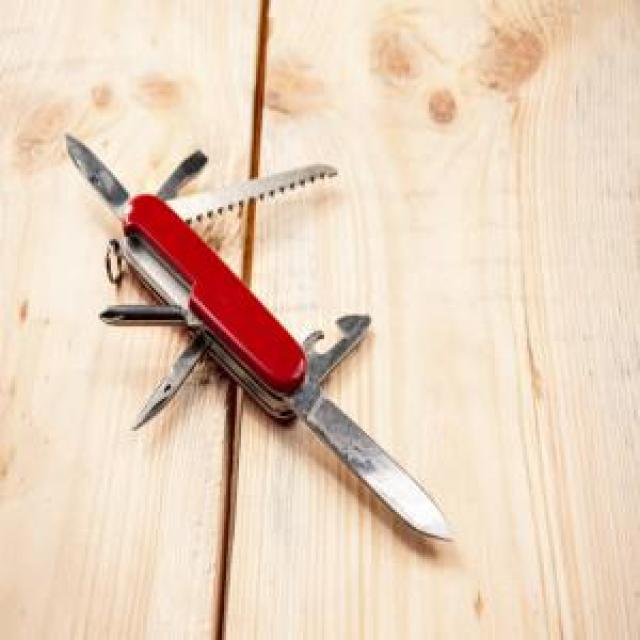knife: (59, 130, 457, 545)
